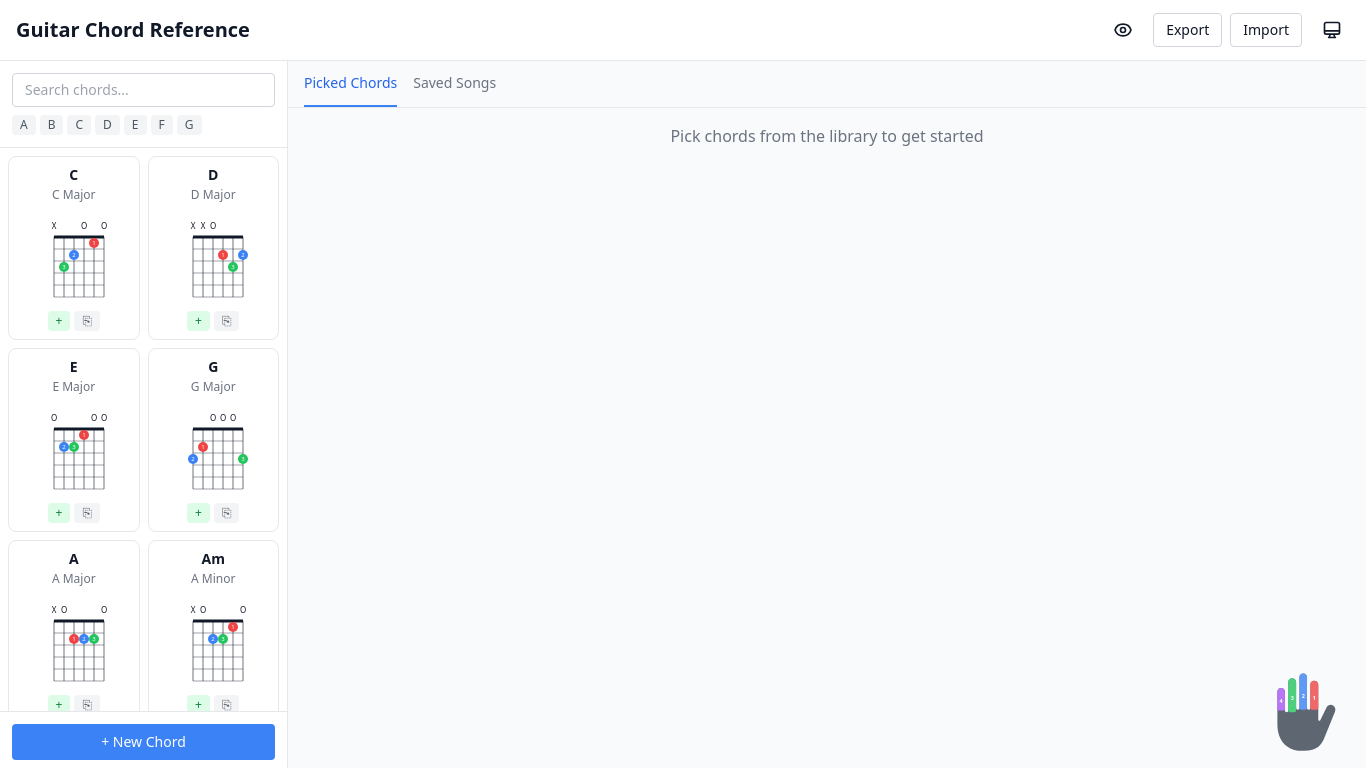
Test case: App › loads a song and switches to picked view
What coordinates should you click on to do the following:
click the button named "pick chord"
I would click on:
 (59, 321)
Its box is x1=48 y1=311 x2=70 y2=331.
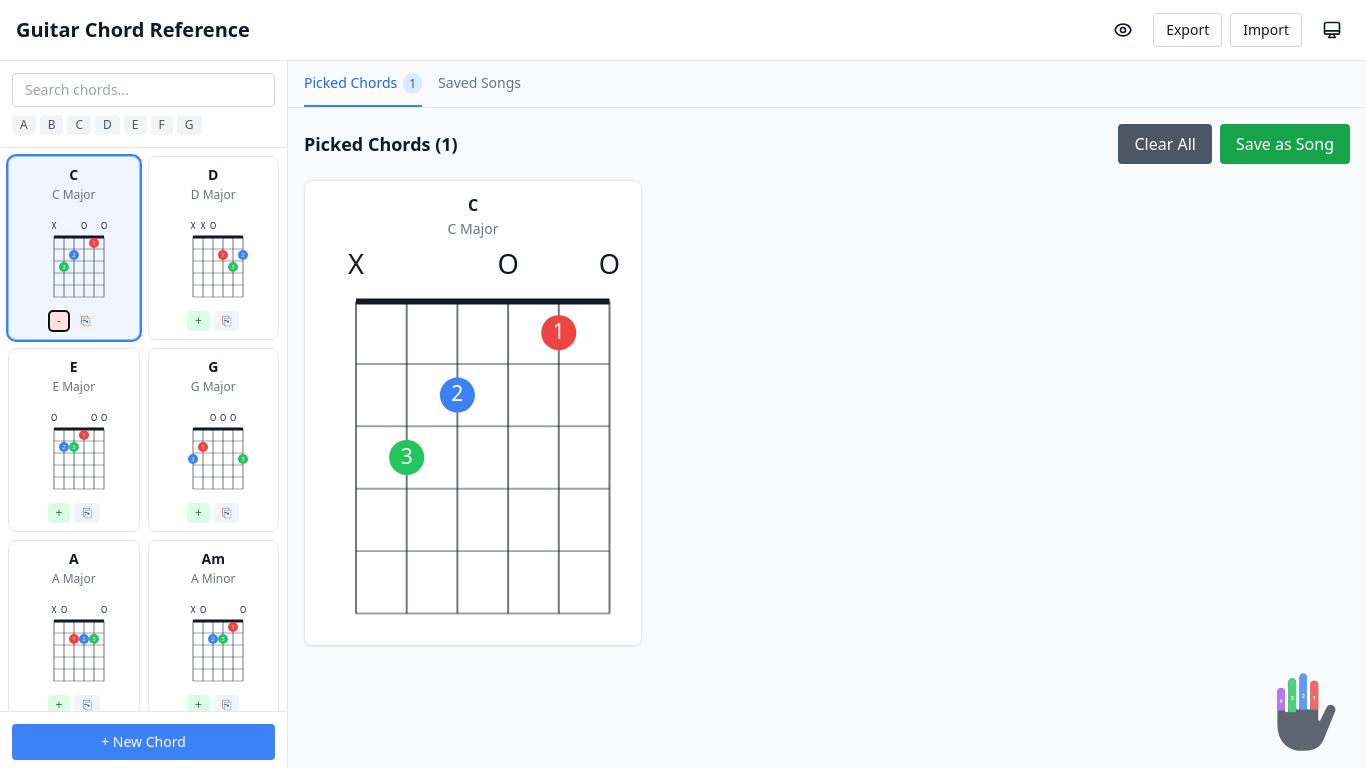
What coordinates should you click on to do the following:
click the button "Save as Song"
I would click on:
 (1285, 144)
Its box is x1=1220 y1=124 x2=1350 y2=164.
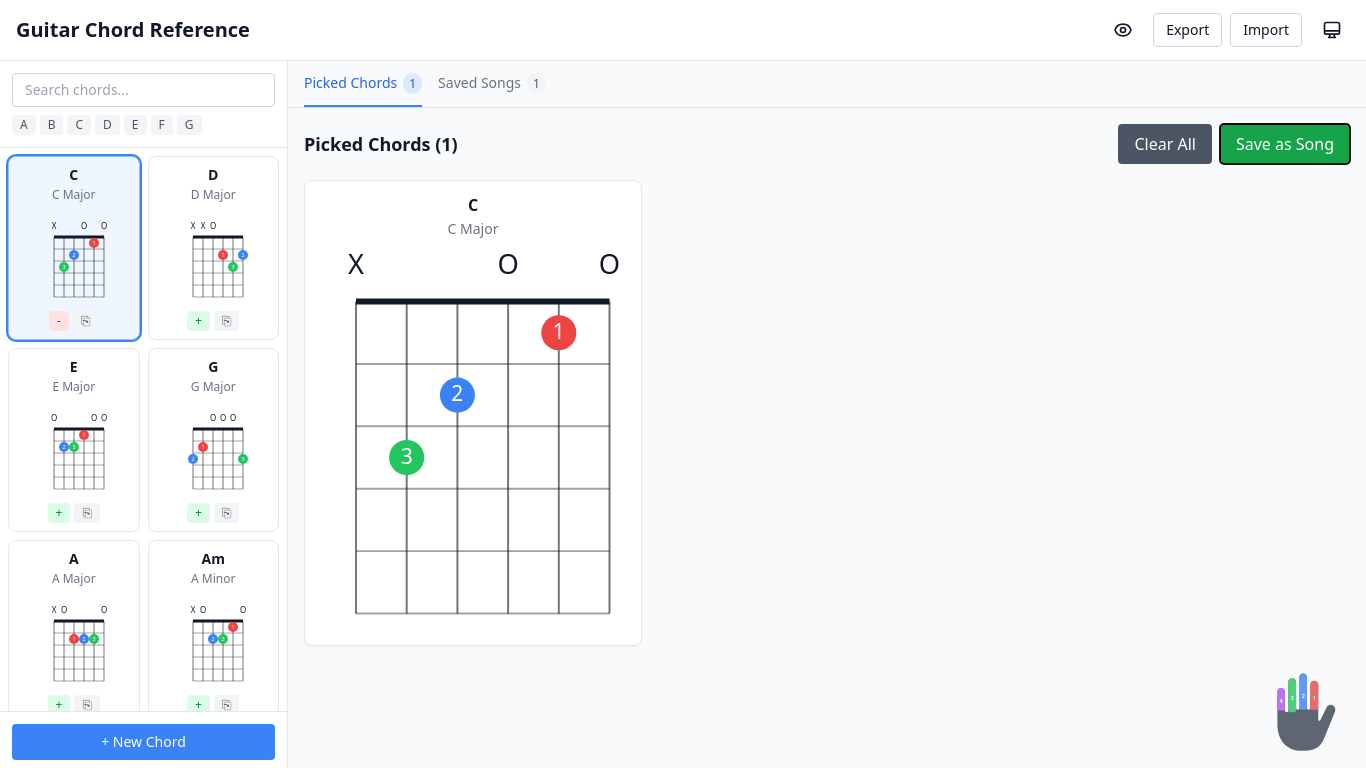
What coordinates should you click on to do the following:
click the button "Clear All"
I would click on:
 (1165, 144)
Its box is x1=1118 y1=124 x2=1212 y2=164.
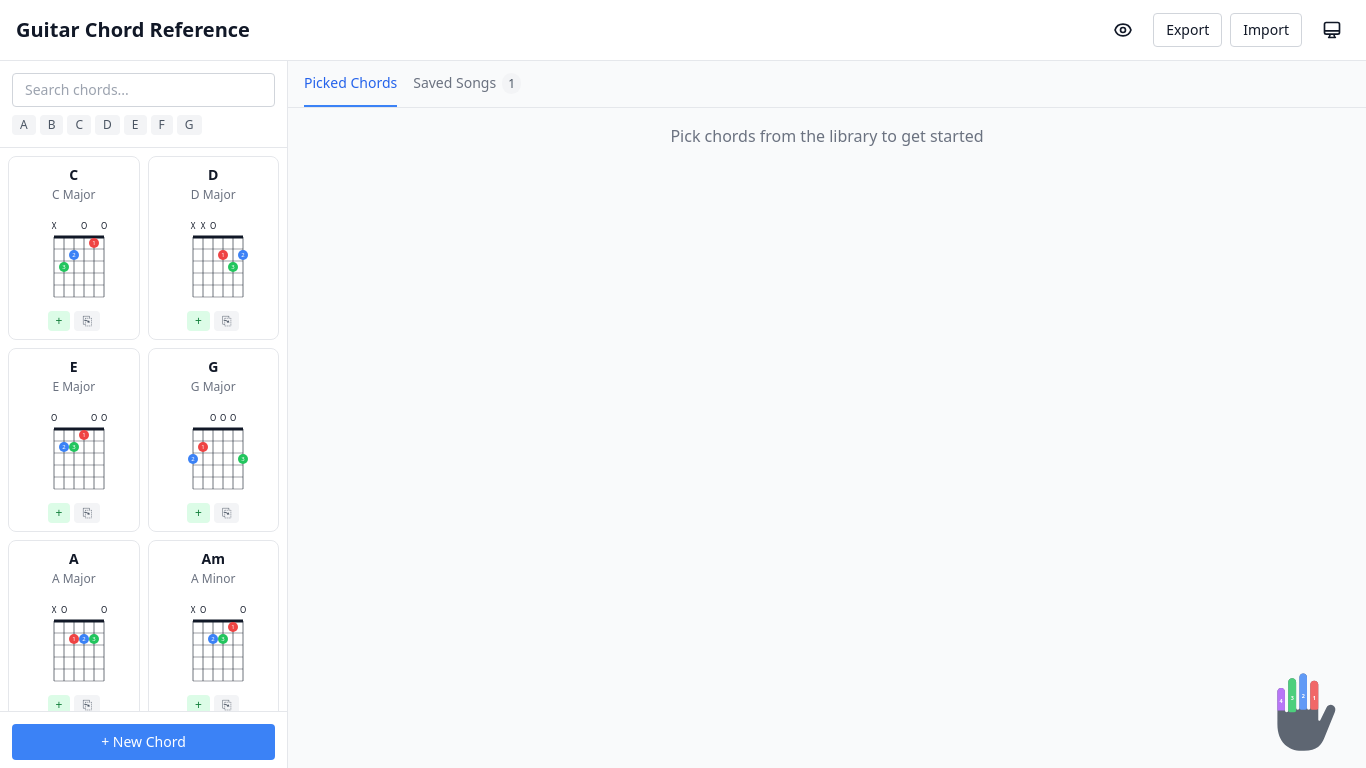
What coordinates should you click on to do the following:
click the button with aria-label "saved songs tab"
I would click on:
 (467, 84)
Its box is x1=413 y1=61 x2=521 y2=107.
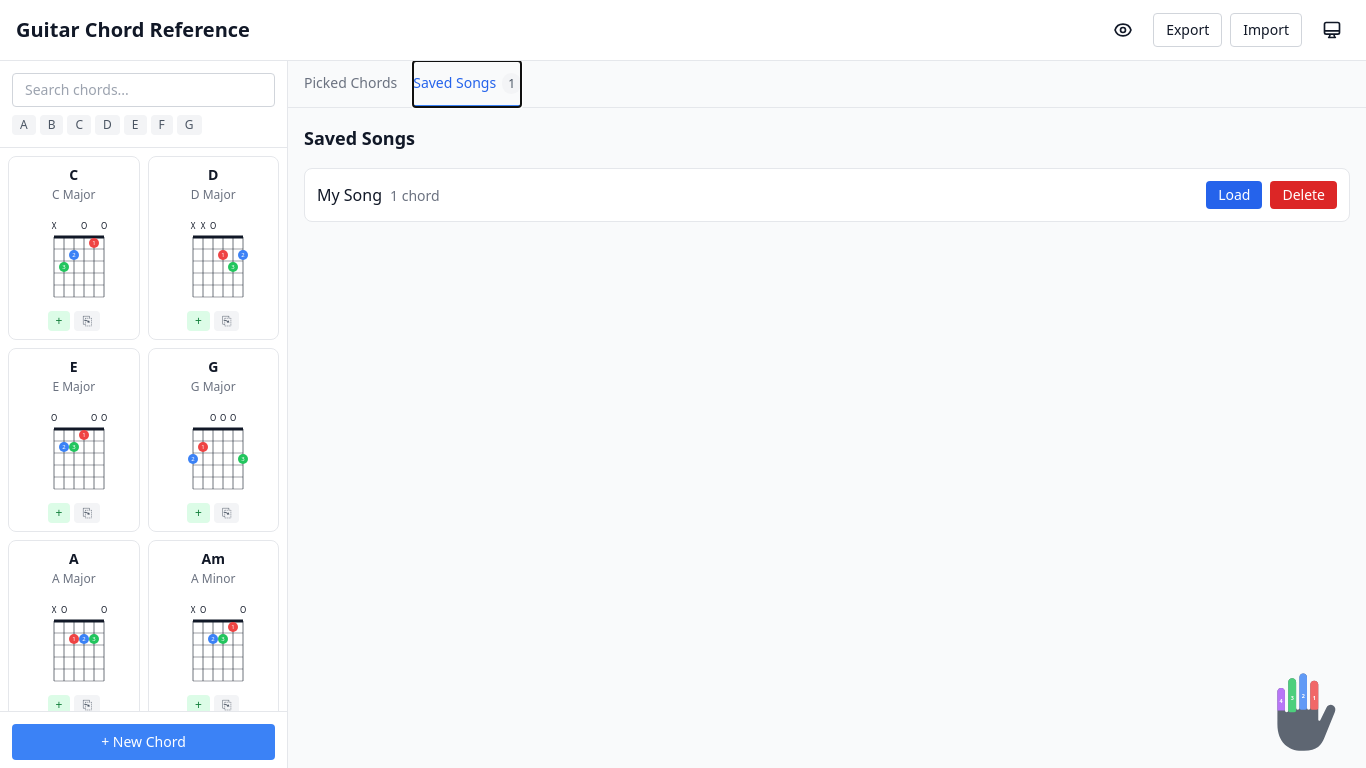
What coordinates should you click on to do the following:
click the button "Load"
I would click on:
 (1234, 195)
Its box is x1=1206 y1=181 x2=1262 y2=209.
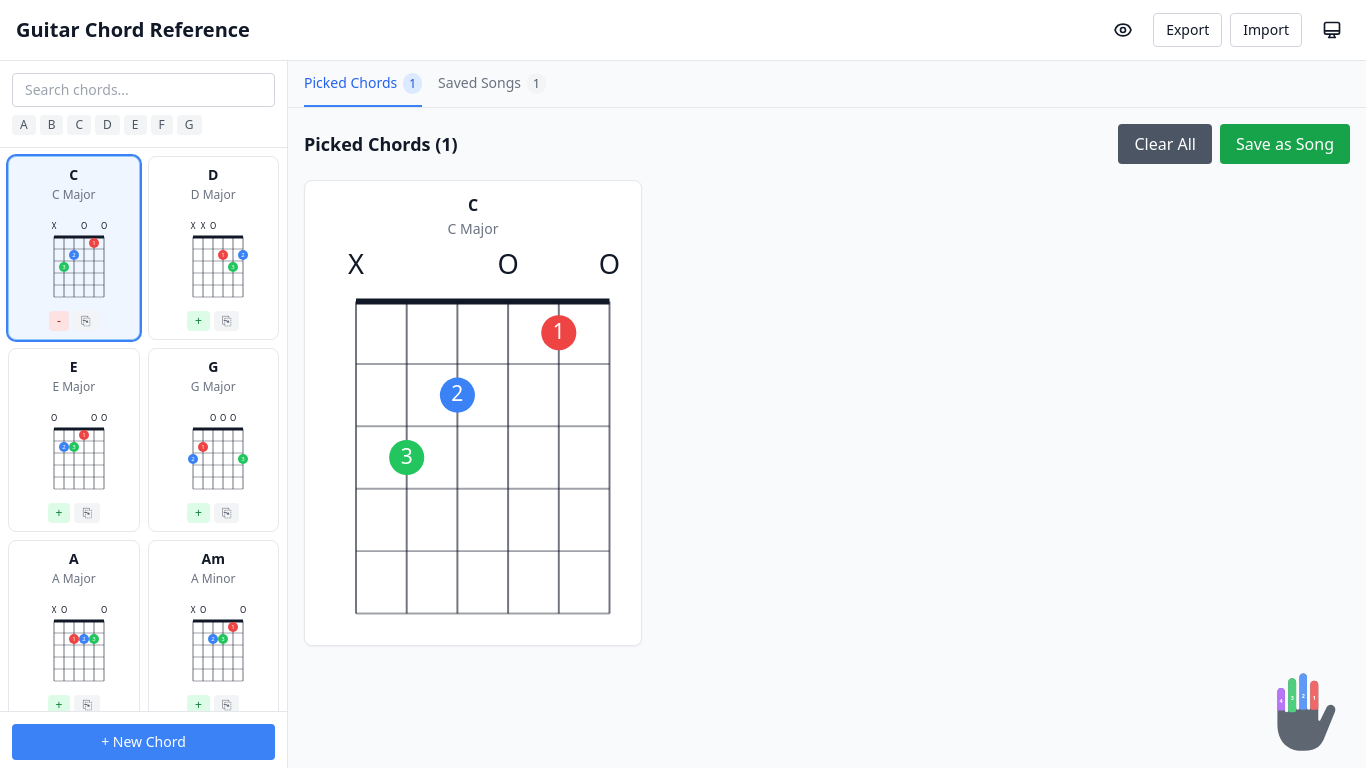
Now the button with aria-label "picked chords tab" shows "1", box x1=304 y1=61 x2=422 y2=107
